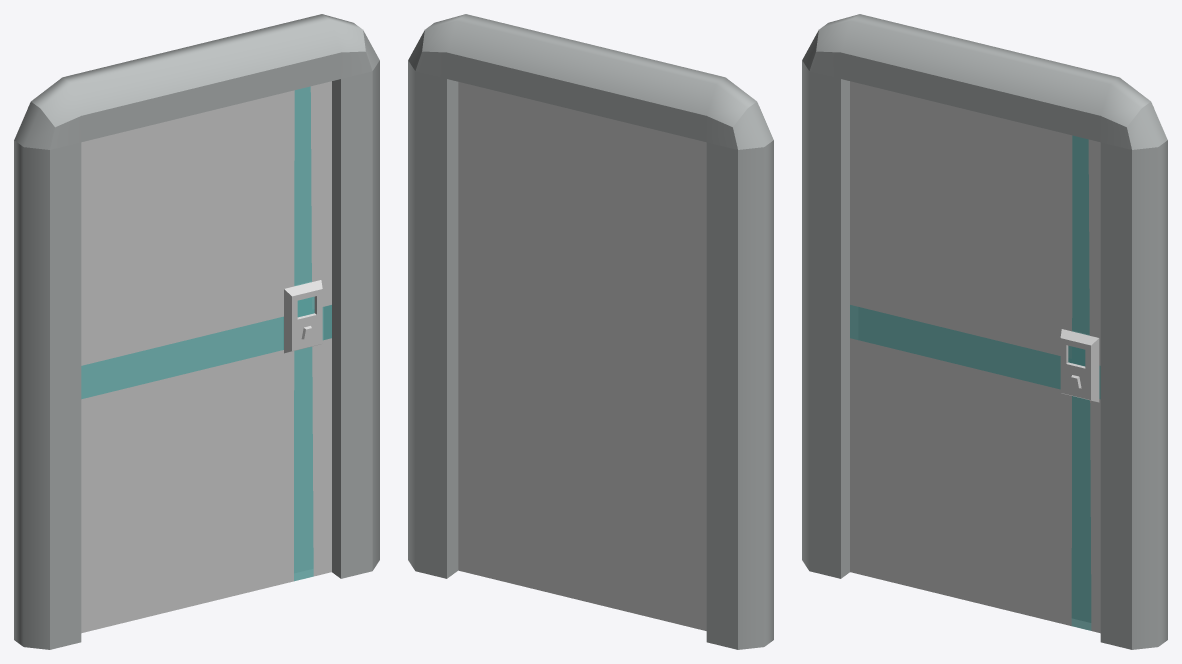
File: Door2.fbx
3 views of the same model, side by side, from view 1: azimuth 30°, elevation 25°; view 2: azimuth 150°, elevation 25°; view 3: azimuth 330°, elevation 25° (orthographic).
Parts seen in each view (by area): view 1: pCube4; view 2: pCube4; view 3: pCube4.
Part boxes in pixels (x1,y1,x2,y2): pCube4: (14, 14, 379, 649); pCube4: (408, 14, 773, 649); pCube4: (802, 14, 1167, 649).
Bounding box in the file's own units: 251 × 372 × 34.93.
